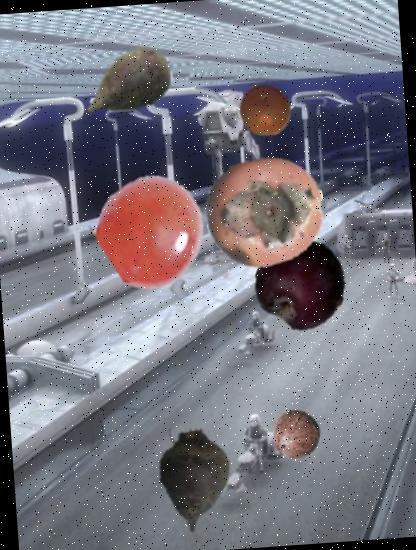Beetroot: (132, 415, 259, 542), (74, 32, 182, 140)
Cocos: (269, 408, 323, 462)
Kaki: (200, 147, 330, 276)
Plum: (252, 234, 350, 333)
Redcurrant: (93, 172, 211, 290)
Tangelo: (236, 80, 294, 138)
